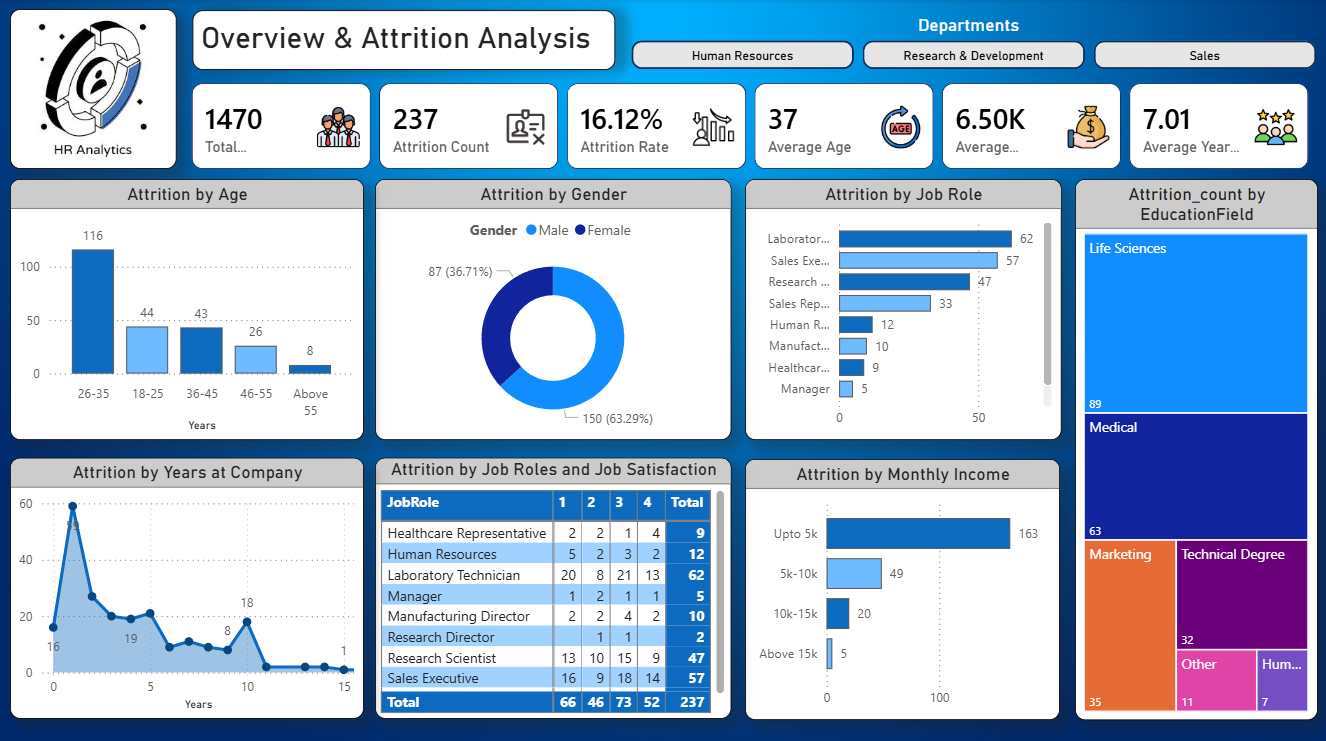

The page's visual inventory and layout, read from the dashboard file:
{"tool":"powerbi","page":{"name":"Attrition Analysis","canvas":[1280,720],"ordinal":1},"visuals":[{"type":"image","box":[9.7,9.7,160.5,154.4],"z":0},{"type":"cardVisual","fields":{"Data":["HR_Employee_Attrition.Total_Employees","HR_Employee_Attrition.Attrition_count","HR_Employee_Attrition.Attrition_Rate","HR_Employee_Attrition.Avg_Age","HR_Employee_Attrition.Avg_Monthly_Income","HR_Employee_Attrition.Avg_Years_at_Company"]},"box":[181,77.2,1090.6,91.7],"z":1000},{"type":"textbox","box":[185.8,10.9,407.8,57.9],"z":2000},{"type":"clusteredBarChart","title":"Attrition by Job Role","fields":{"Category":["HR_Employee_Attrition.JobRole"],"Y":["HR_Employee_Attrition.Attrition_count"]},"box":[719,173.7,305.2,252.1],"z":3000},{"type":"donutChart","title":"Attrition by Gender","fields":{"Category":["HR_Employee_Attrition.Gender"],"Y":["HR_Employee_Attrition.Attrition_count"]},"box":[361.9,173.7,343.8,252.1],"z":4000},{"type":"clusteredColumnChart","title":"Attrition by Age","fields":{"Category":["HR_Employee_Attrition.Age_grp"],"Y":["HR_Employee_Attrition.Attrition_count"]},"box":[9.7,173.7,341.4,252.1],"z":5000},{"type":"clusteredBarChart","title":"Attrition by Monthly Income","fields":{"Category":["HR_Employee_Attrition.Income_Grp"],"Y":["HR_Employee_Attrition.Attrition_count"]},"box":[719,444,304,252.1],"z":6000},{"type":"pivotTable","title":"Attrition by Job Roles and Job Satisfaction","fields":{"Rows":["HR_Employee_Attrition.JobRole"],"Columns":["HR_Employee_Attrition.JobSatisfaction"],"Values":["HR_Employee_Attrition.Attrition_count"]},"box":[361.9,442.8,343.8,252.1],"z":7000},{"type":"areaChart","title":"Attrition by Years at Company","fields":{"Category":["HR_Employee_Attrition.YearsAtCompany"],"Y":["HR_Employee_Attrition.Attrition_count"]},"box":[9.7,442.8,341.4,252.1],"z":8000},{"type":"treemap","fields":{"Values":["HR_Employee_Attrition.Attrition_count"],"Group":["HR_Employee_Attrition.EducationField"]},"box":[1037.5,173.7,234,522.4],"z":9000},{"type":"advancedSlicerVisual","title":"Department slicer","fields":{"Values":["HR_Employee_Attrition.Department"]},"box":[609.3,39.8,662.3,29],"z":10000},{"type":"textbox","box":[767.3,9.7,335.4,30.2],"z":11000}]}

Visuals, with their boxes in screenshot pixels (x1, y1, x2, y2), scaled from the page's 1280x720 canvas onto the 1326x741 screenshot:
image: bbox(10, 10, 176, 169)
cardVisual - HR_Employee_Attrition.Total_Employees x HR_Employee_Attrition.Attrition_count: bbox(188, 79, 1317, 174)
textbox: bbox(192, 11, 615, 71)
"Attrition by Job Role" clusteredBarChart: bbox(745, 179, 1061, 438)
"Attrition by Gender" donutChart: bbox(375, 179, 731, 438)
"Attrition by Age" clusteredColumnChart: bbox(10, 179, 364, 438)
"Attrition by Monthly Income" clusteredBarChart: bbox(745, 457, 1060, 716)
"Attrition by Job Roles and Job Satisfaction" pivotTable: bbox(375, 456, 731, 715)
"Attrition by Years at Company" areaChart: bbox(10, 456, 364, 715)
treemap - HR_Employee_Attrition.Attrition_count x HR_Employee_Attrition.EducationField: bbox(1075, 179, 1317, 716)
"Department slicer" advancedSlicerVisual: bbox(631, 41, 1317, 71)
textbox: bbox(795, 10, 1142, 41)
